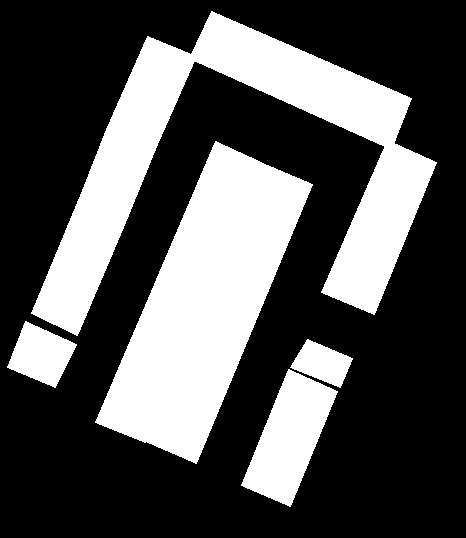parkingspot: (143, 162, 312, 463), (95, 141, 263, 442), (31, 36, 196, 335), (189, 11, 411, 149), (321, 140, 436, 314), (241, 369, 337, 506), (7, 321, 76, 387), (290, 339, 352, 387)
